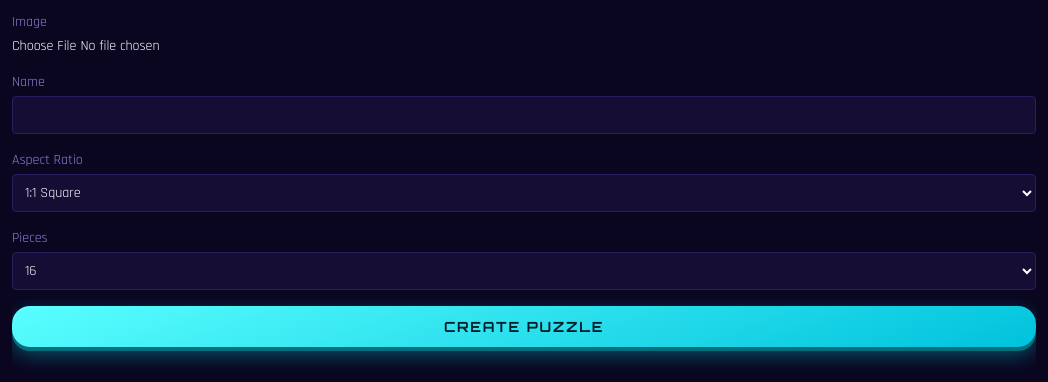
Test: QuickPuzzleUploader › limits piece choices to the selected aspect ratio
The width and height of the screenshot is (1048, 382).
Select "4:3 Landscape" in the dropdown labelled "Aspect Ratio" at (524, 193), box [12,174,1036,212]
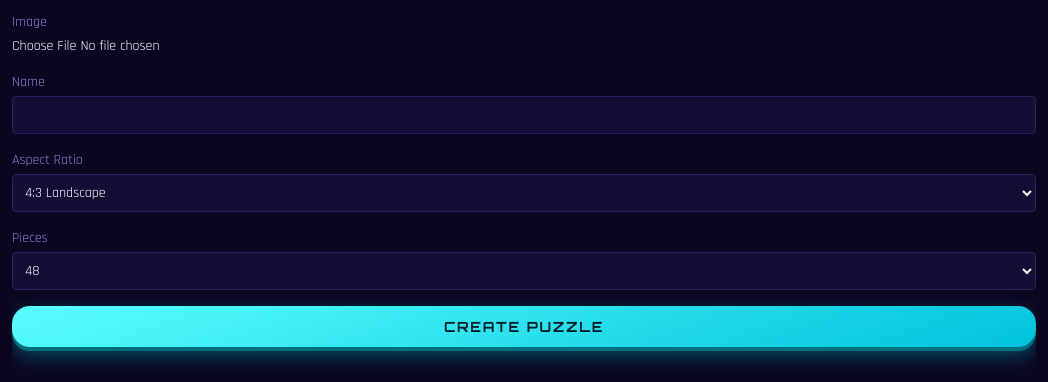
Expected: the dropdown labelled "Pieces" shows "48", [12,252,1036,290]
